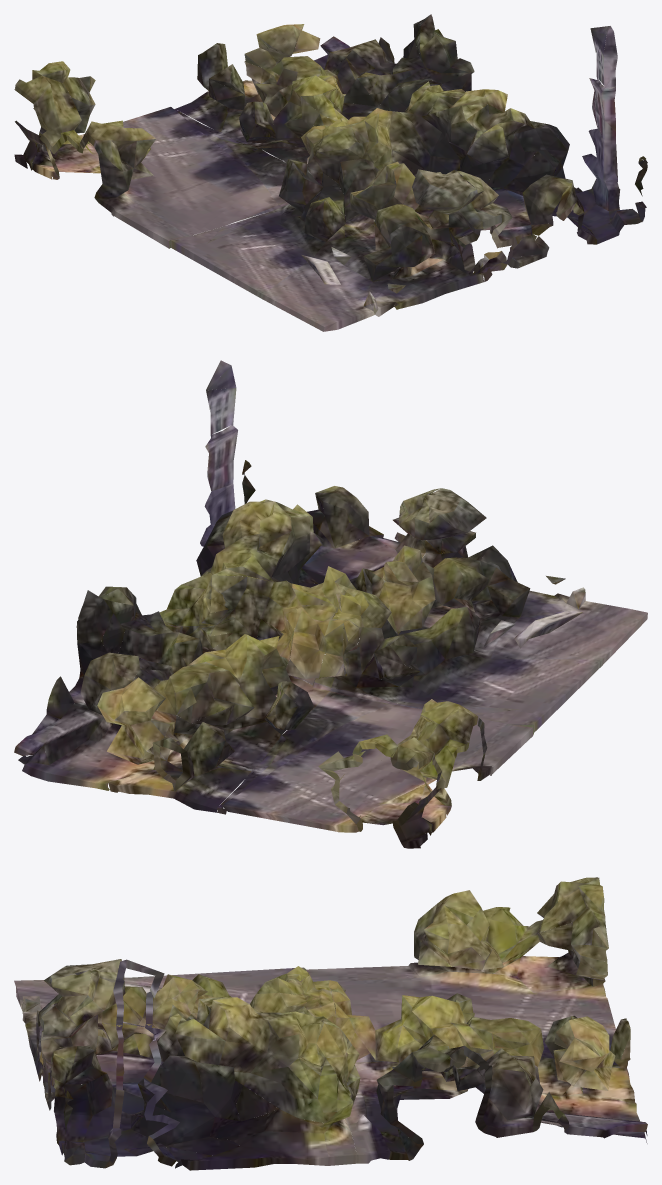
3 views of the same model, one above another, from view 1: azimuth 30°, elevation 25°; view 2: azimuth 150°, elevation 25°; view 3: azimuth 270°, elevation 25° (orthographic). The views are drawn at different scales.
Parts seen in each view (by area): view 1: Mesh_0; view 2: Mesh_0; view 3: Mesh_0.
Boxes of the visible parts, box(x1,y1,x2,y2) form: Mesh_0: box(14, 14, 647, 331); Mesh_0: box(14, 360, 647, 848); Mesh_0: box(14, 877, 647, 1170).
Size of the model in its own units: 67.74 by 31.89 by 82.57.
2 materials, 2 textured.
